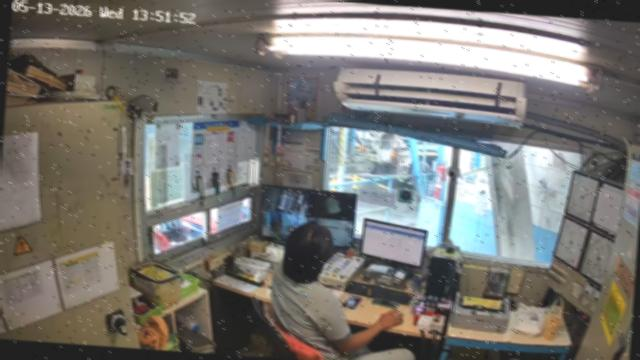Head: (282, 222, 334, 284)
People: (270, 223, 403, 359)
Phone: (370, 298, 399, 308), (342, 295, 361, 308)
